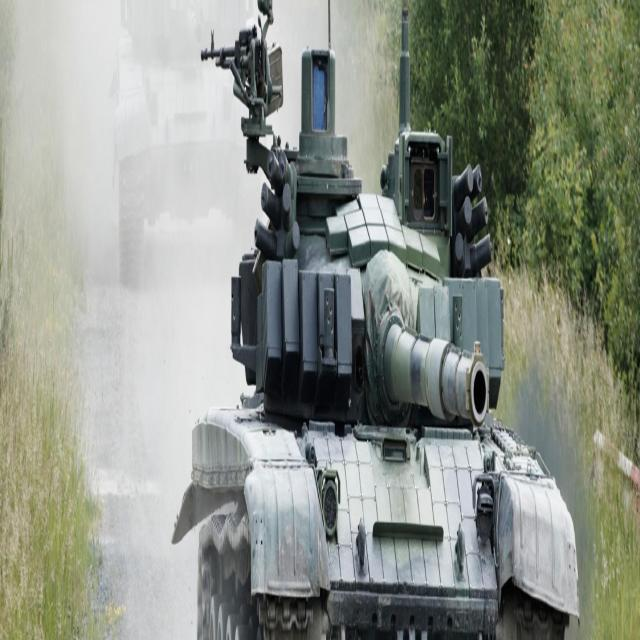MIL_MBT: (175, 27, 588, 618)
